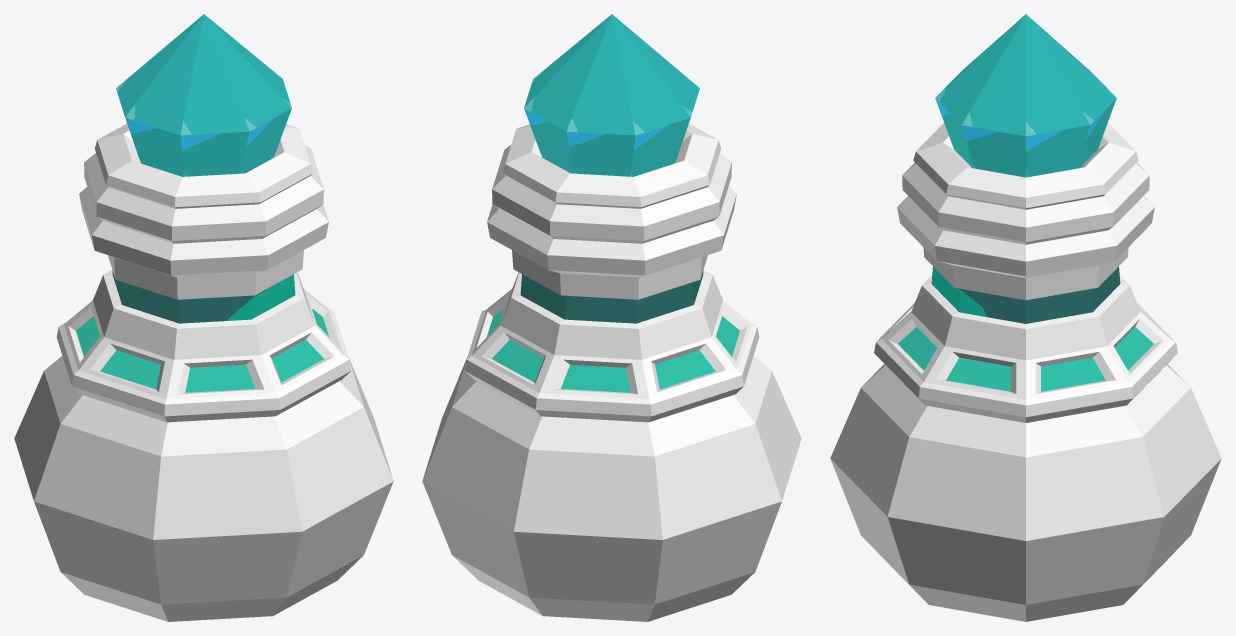
3 views of the same model, side by side, from view 1: azimuth 30°, elevation 25°; view 2: azimuth 150°, elevation 25°; view 3: azimuth 270°, elevation 25° (orthographic).
Visible parts, largest first — view 1: potion_content, potion_body, potion_tap; view 2: potion_content, potion_body, potion_tap; view 3: potion_content, potion_body, potion_tap.
Boxes of the visible parts, x1,y1,x2,y2 form: potion_content: (14, 356, 393, 621); potion_body: (56, 123, 351, 422); potion_tap: (116, 14, 291, 176); potion_content: (422, 356, 801, 621); potion_body: (464, 123, 759, 422); potion_tap: (524, 14, 699, 176); potion_content: (830, 364, 1221, 621); potion_body: (874, 123, 1177, 422); potion_tap: (935, 14, 1116, 177).
Size of the model in its own units: 3.43 by 5.32 by 3.43.
Materials: 5 (2 with a texture image).
